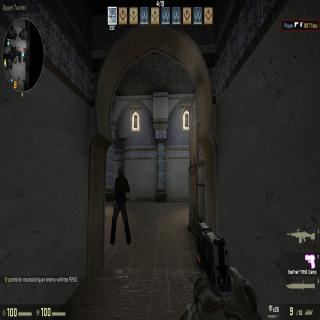T-Body: (113, 165, 128, 245)
T-Head: (116, 166, 124, 177)
